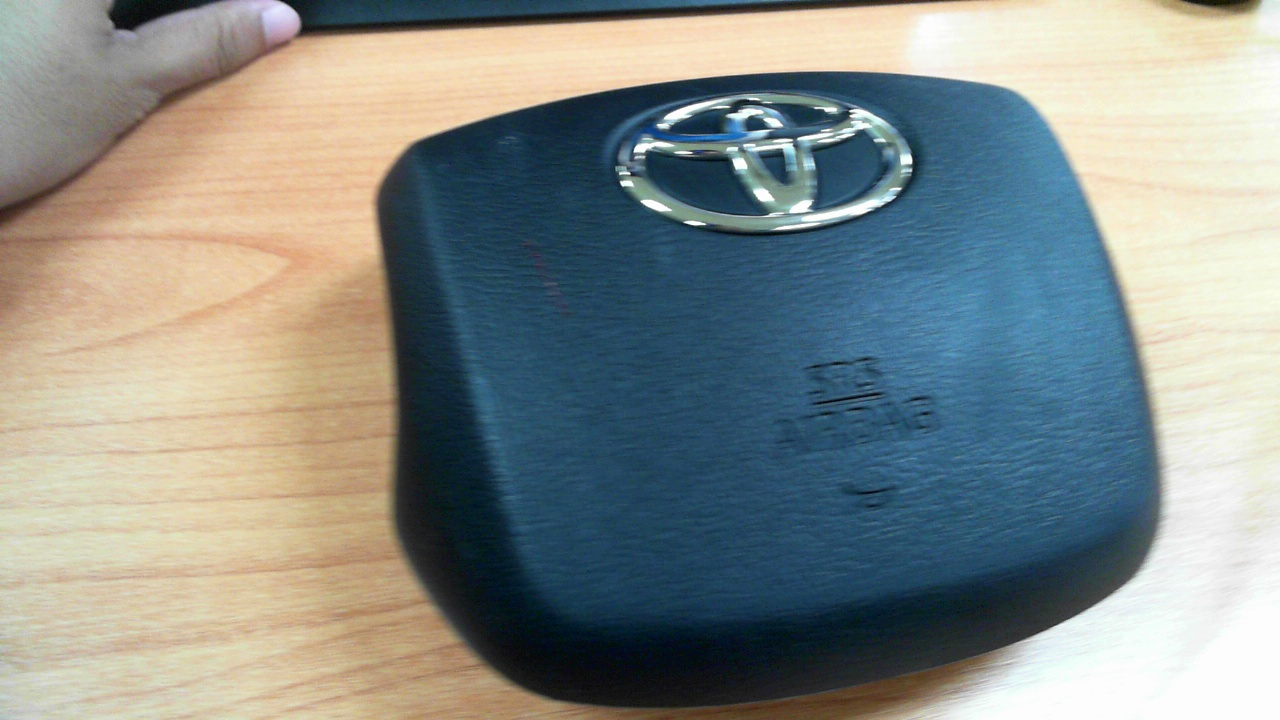Airbag: (377, 71, 1166, 706)
Toyota: (610, 89, 914, 233)
